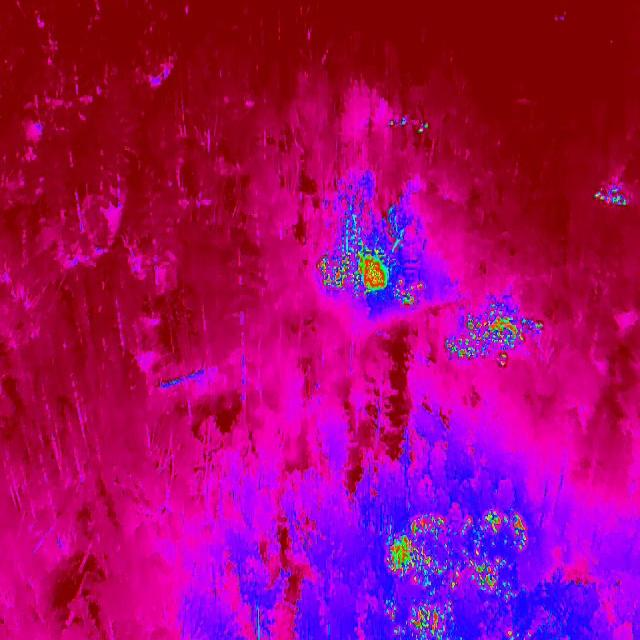fire: (385, 508, 527, 594), (316, 239, 431, 309), (440, 307, 544, 368), (391, 597, 459, 640), (590, 180, 634, 210), (418, 122, 430, 134), (388, 119, 397, 130), (399, 117, 406, 127), (507, 631, 514, 637)
